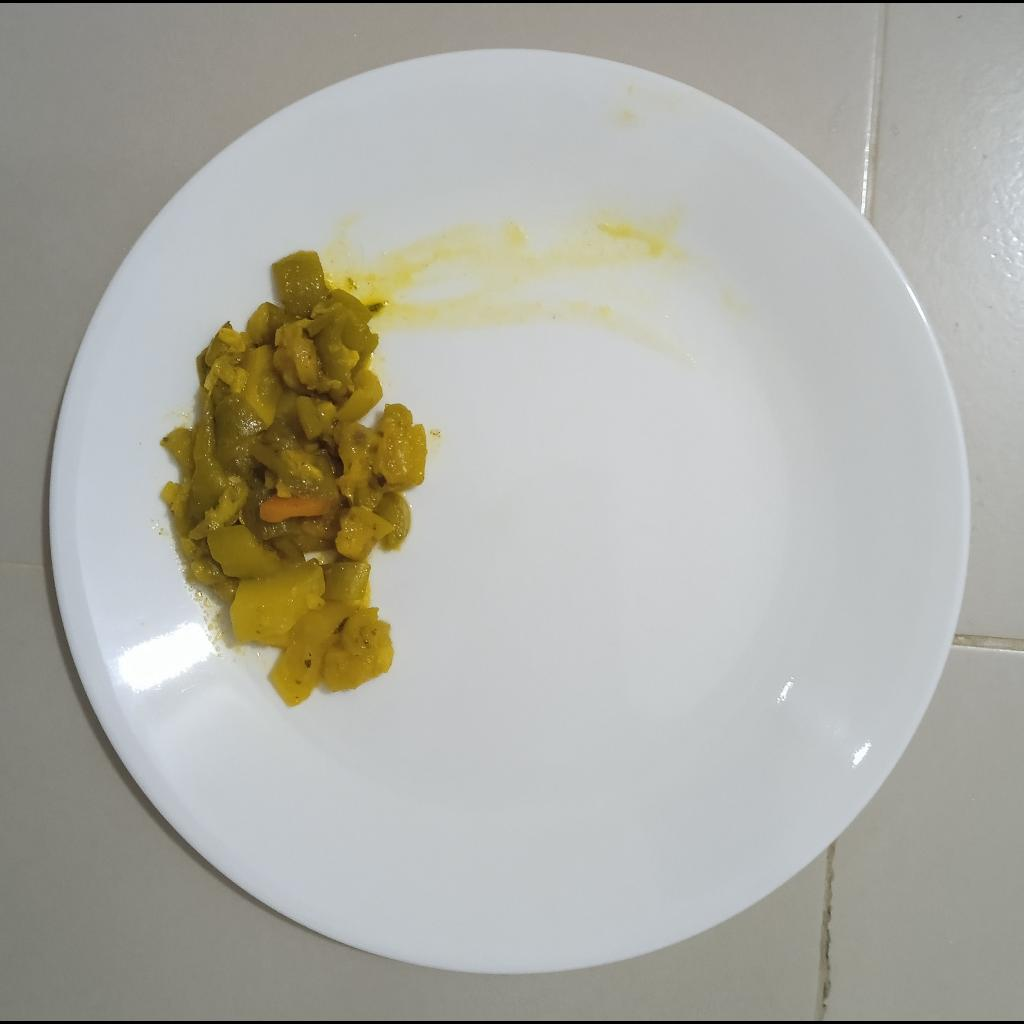dundol: (160, 250, 426, 710)
